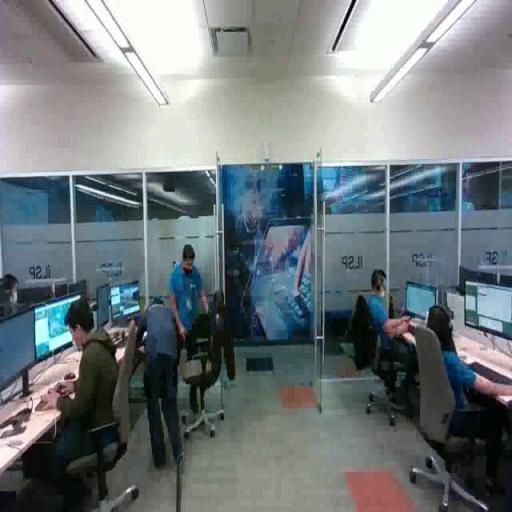person: (168, 243, 203, 417)
